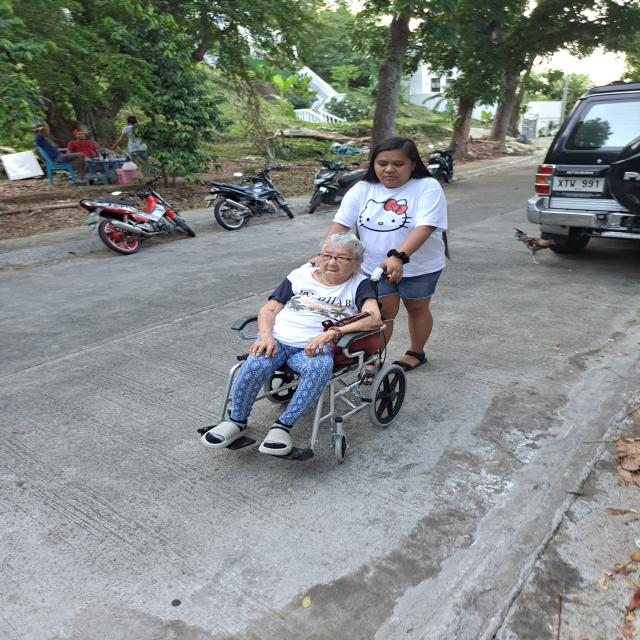wheelchairs: (203, 268, 413, 467)
